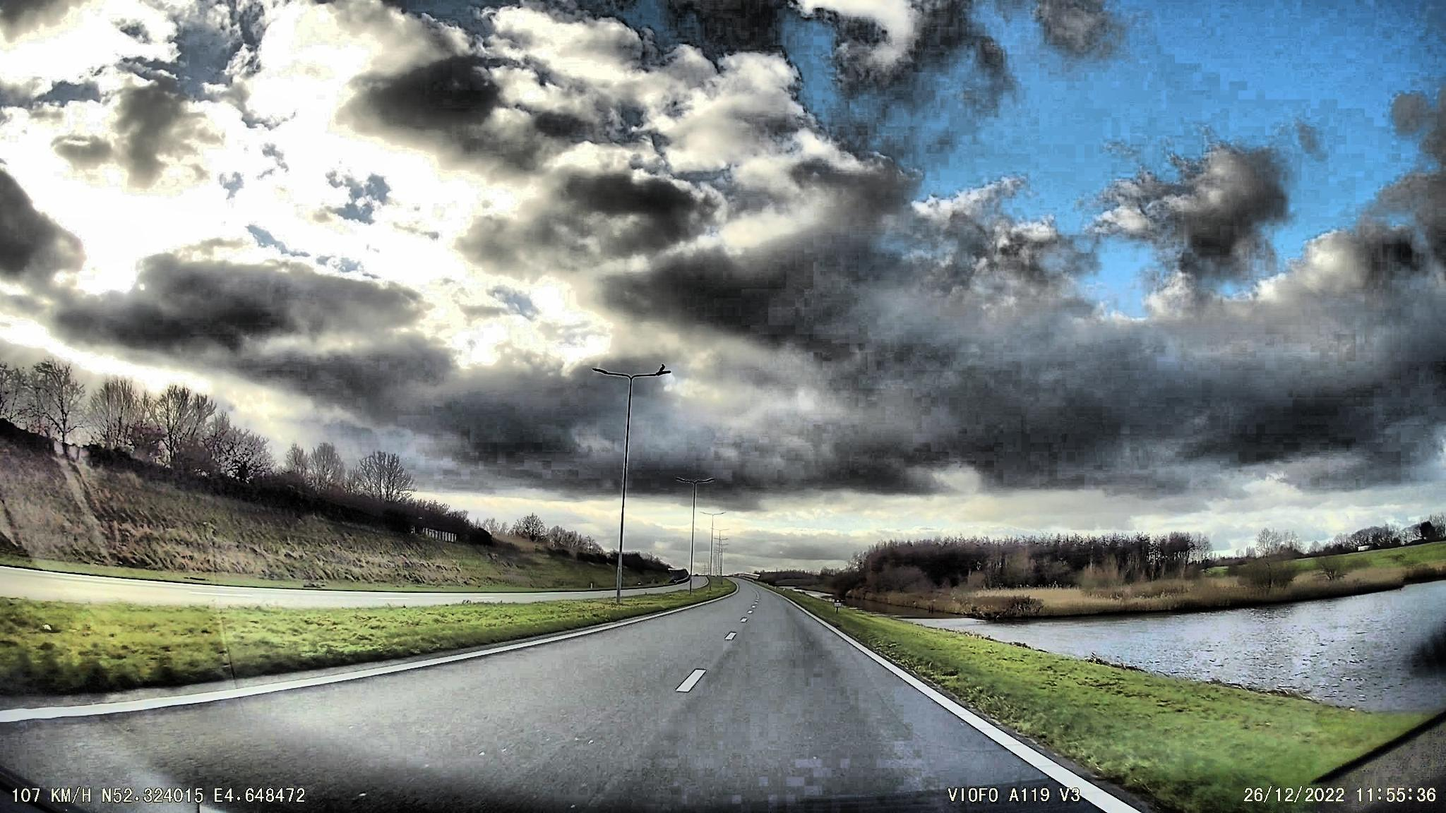Roads: (0, 583, 1161, 813)
